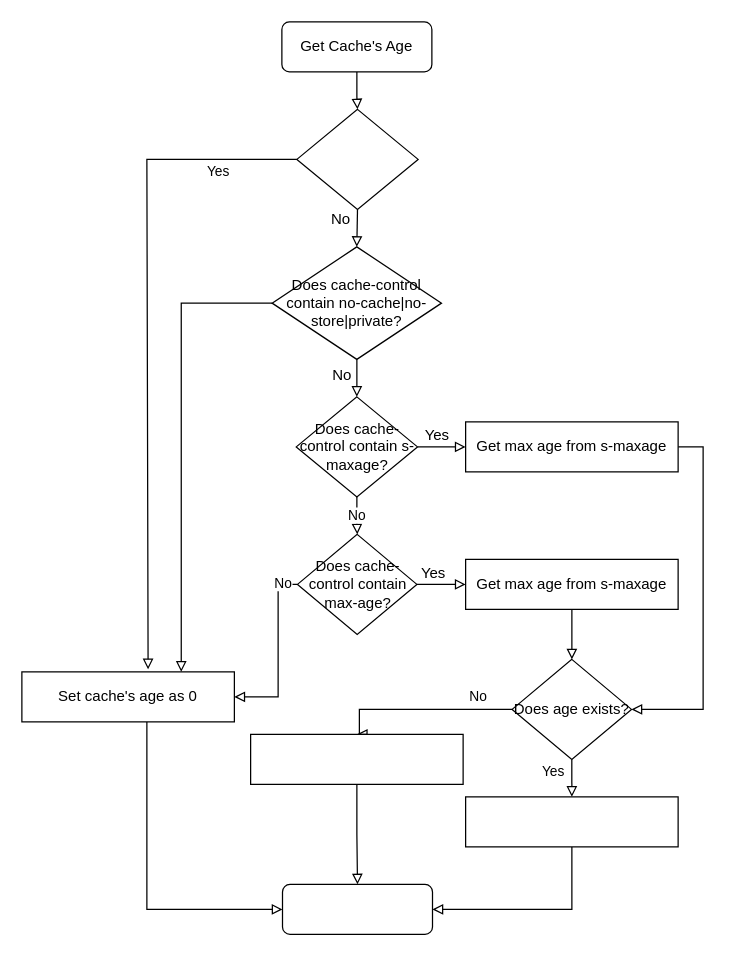
This 735x956 diagram has some shape labels left out. The centre of each missing label's shape, as x and y in pixels:
"Does set-cookie exists?" belongs at point 357,158.
"End" belongs at point 356,908.
"Set cache's age as max age" belongs at point 356,758.
"Set cache's age as max age - age" belongs at point 571,821.
